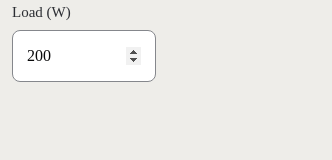
Test case: NumberField › goes back to the last valid value when the field is left with an invalid draft
The width and height of the screenshot is (332, 160).
Clear the number field labelled "Load (W)": point(84, 56) [12,30,156,82]
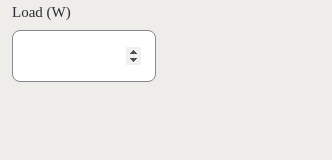
Leave the number field labelled "Load (W)", box [12,30,156,82]
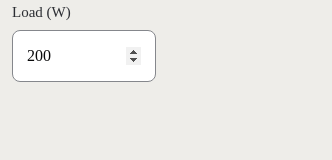
Expected: the number field labelled "Load (W)" holds "200", [12,30,156,82]
